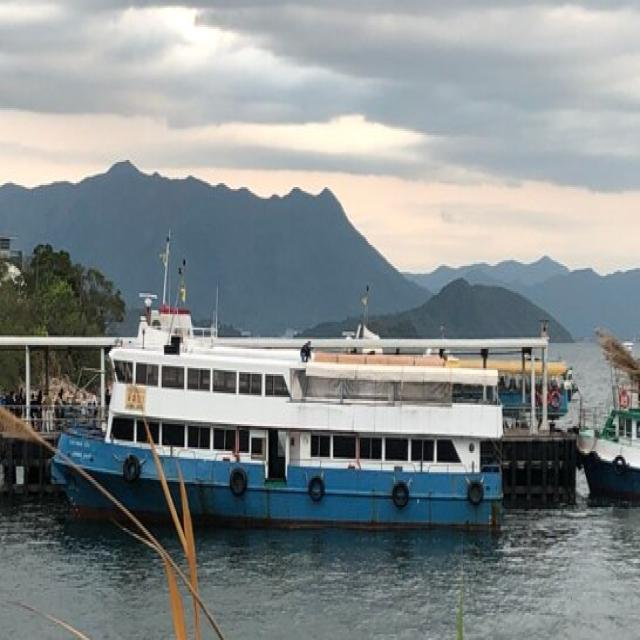passenger ship: (56, 298, 540, 546)
